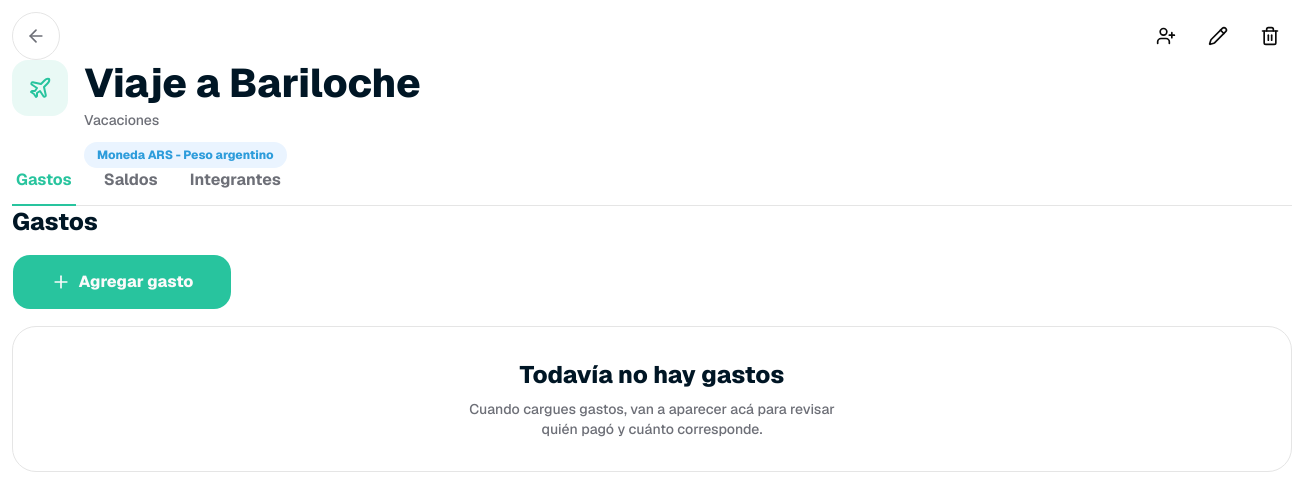
EventDetailView › muestra el email de los integrantes con cuenta y marca invitado a los que no
Step 1. Click the tab "Integrantes" → {"x": 235, "y": 187}, box top-left (186, 168), bottom-right (285, 206)
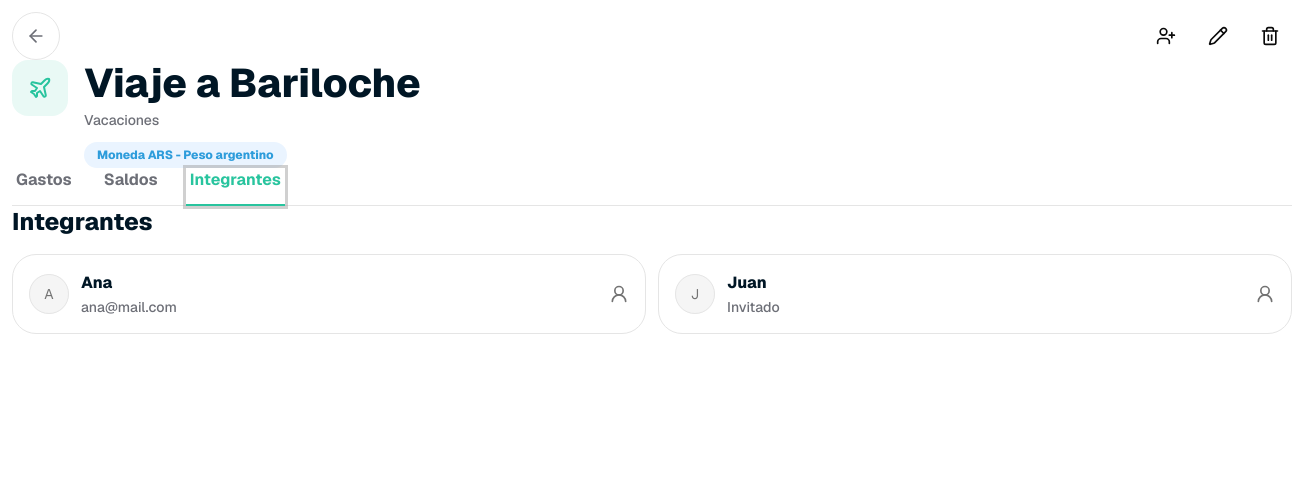
Expected: the text "Ana" is shown, top-left (81, 272), bottom-right (112, 293)
Expected: the text "ana@mail.com" is shown, top-left (81, 298), bottom-right (177, 316)
Expected: the text "Juan" is shown, top-left (727, 272), bottom-right (767, 293)
